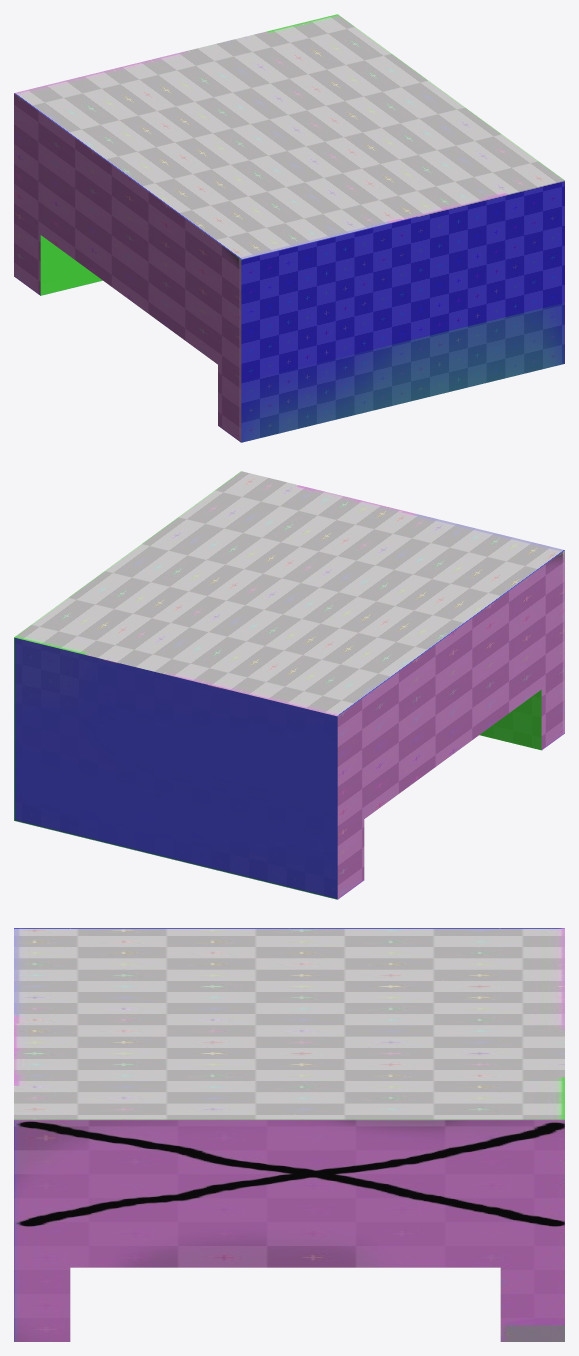
The model's file is wall2.fbx.
3 renders of one model, top to bottom at view 1: azimuth 30°, elevation 25°; view 2: azimuth 150°, elevation 25°; view 3: azimuth 270°, elevation 25°, orthographic. The views are drawn at different scales.
Visible parts, largest first — view 1: Cube; view 2: Cube; view 3: Cube.
Part boxes in pixels (x1,y1,x2,y2): Cube: (14,14,564,442); Cube: (14,471,564,899); Cube: (14,928,564,1341).
Bounding box in the file's own units: 5.54 × 3 × 6.74.
1 material, 1 textured.
